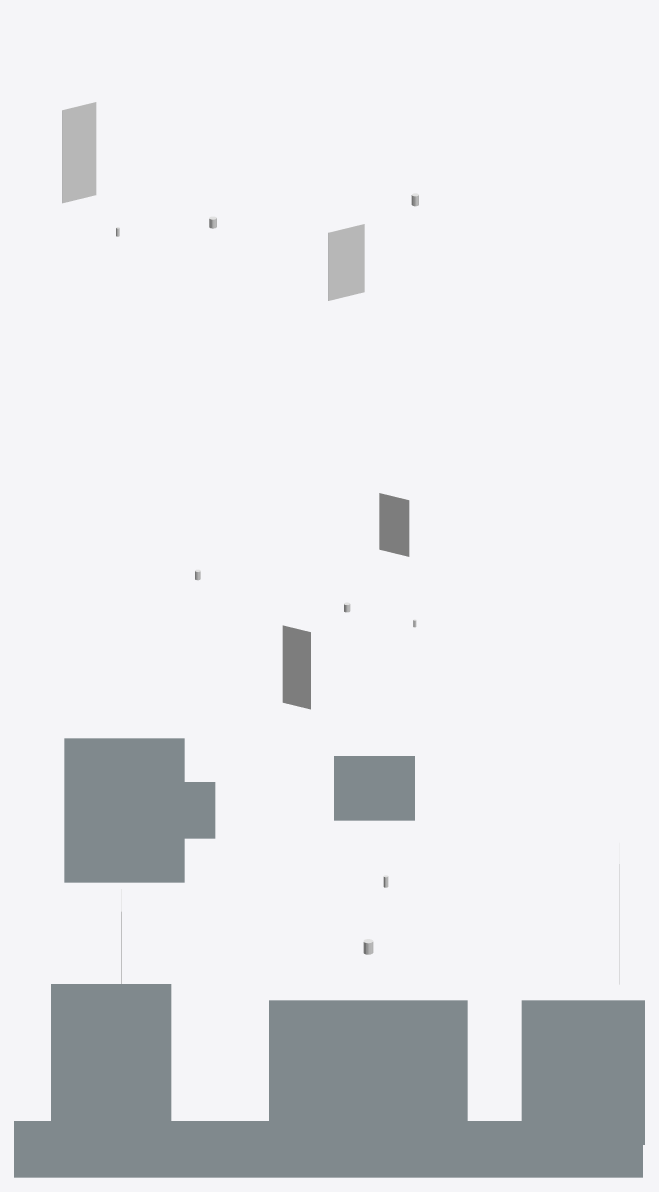
File: GLASS.glb
3 views of the same model, one above another, from view 1: azimuth 30°, elevation 25°; view 2: azimuth 150°, elevation 25°; view 3: azimuth 270°, elevation 25° (orthographic). The views are drawn at different scales.
Visible parts, largest first — view 1: WEB_GLASS; view 2: WEB_GLASS; view 3: WEB_GLASS.
Boxes of the visible parts, x1,y1,x2,y2 form: WEB_GLASS: (62,102,418,300); WEB_GLASS: (195,493,416,709); WEB_GLASS: (14,738,644,1177).
Bounding box in the file's own units: 12.35 × 2.45 × 9.7.
